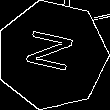N_E: (22, 30, 82, 80)
